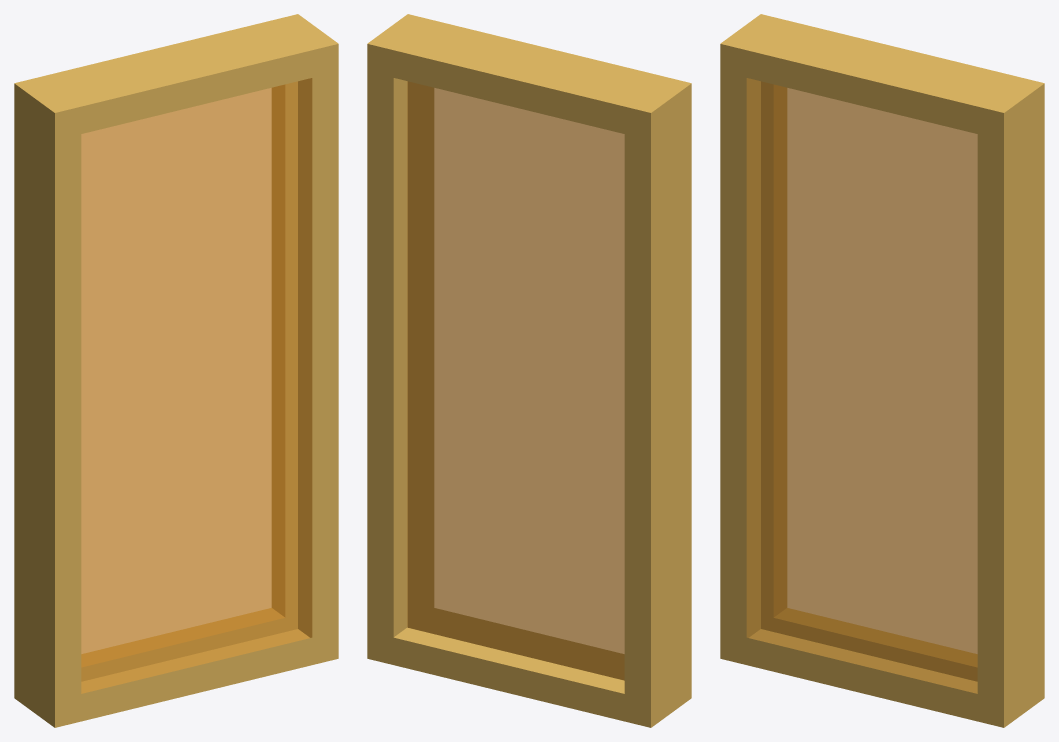
The model's file is muro_vetro_arancione_regina 1.fbx.
3 renders of one model, left to right at view 1: azimuth 30°, elevation 25°; view 2: azimuth 150°, elevation 25°; view 3: azimuth 330°, elevation 25°, orthographic.
Visible parts, largest first — view 1: pareteGrande_mod02.003; view 2: pareteGrande_mod02.003; view 3: pareteGrande_mod02.003.
Part boxes in pixels (x1,y1,x2,y2): pareteGrande_mod02.003: (14, 14, 338, 727); pareteGrande_mod02.003: (367, 14, 691, 727); pareteGrande_mod02.003: (720, 14, 1044, 727).
Size of the model in its own units: 2402 by 4972 by 596.
